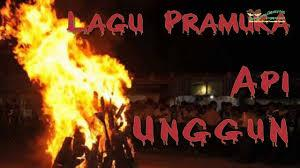fire: (1, 1, 134, 140)
